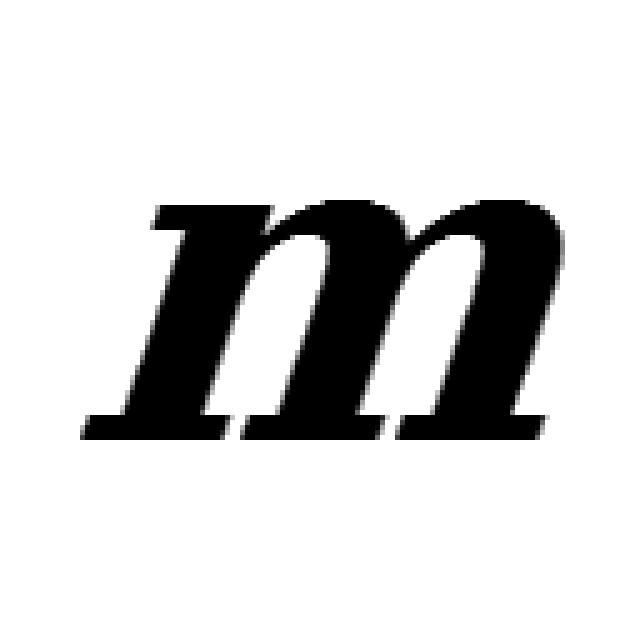M: (75, 185, 570, 450)
